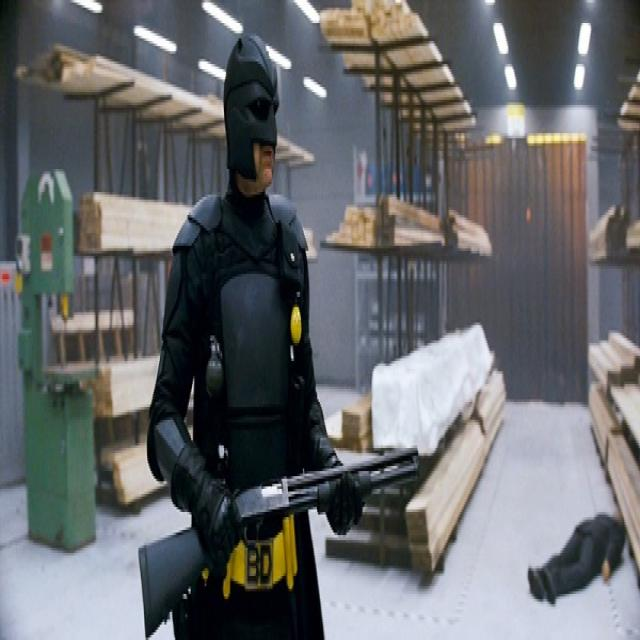rifle: (141, 423, 422, 640)
